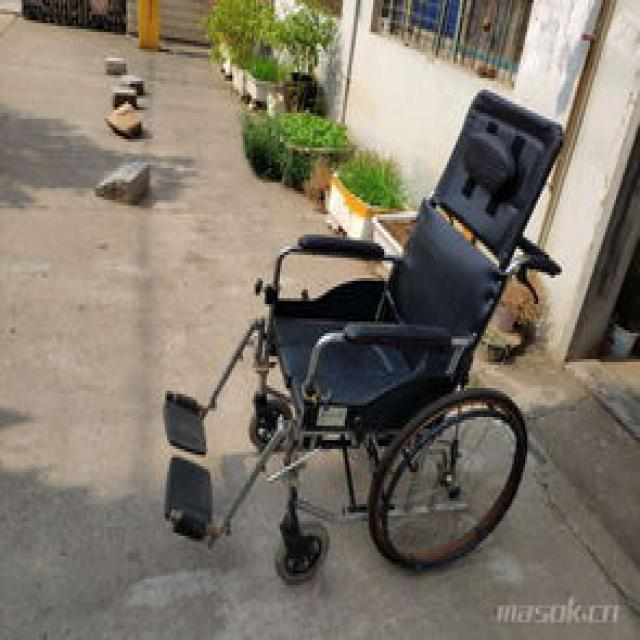wheelchairs: (164, 88, 568, 580)
